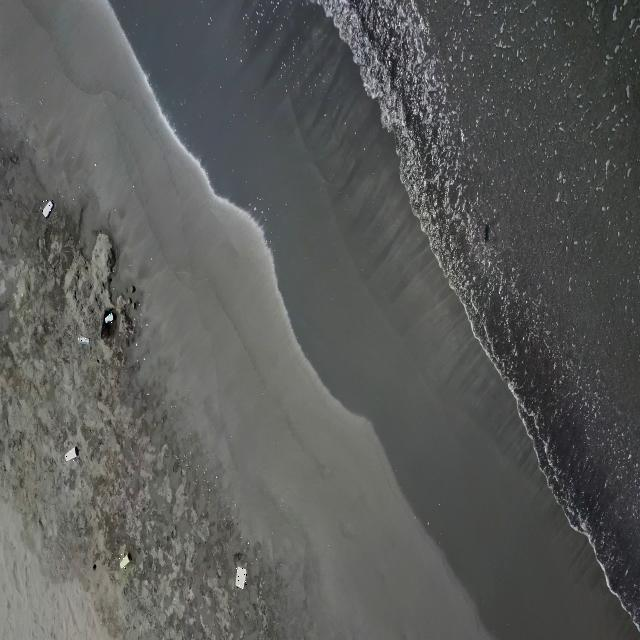take-away-containers: (234, 566, 248, 590)
takeaway-cup: (42, 200, 54, 219), (119, 552, 131, 569), (65, 447, 77, 462), (77, 334, 90, 346), (106, 311, 116, 325)
